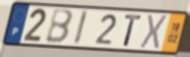2: (22, 7, 49, 43), (94, 13, 118, 46)
B: (44, 9, 75, 46)
I: (72, 9, 90, 46)
T: (123, 14, 144, 48)
X: (138, 13, 169, 52)
